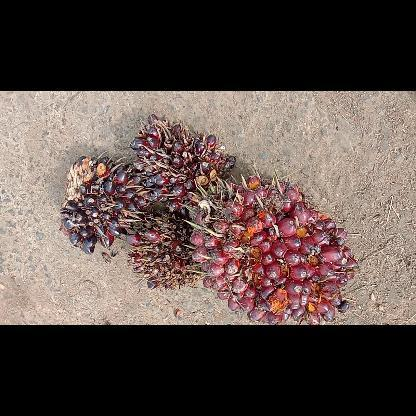TBS abnormal: (132, 113, 236, 214), (60, 154, 150, 252), (127, 209, 202, 288)
TBS masak: (190, 172, 358, 324)
